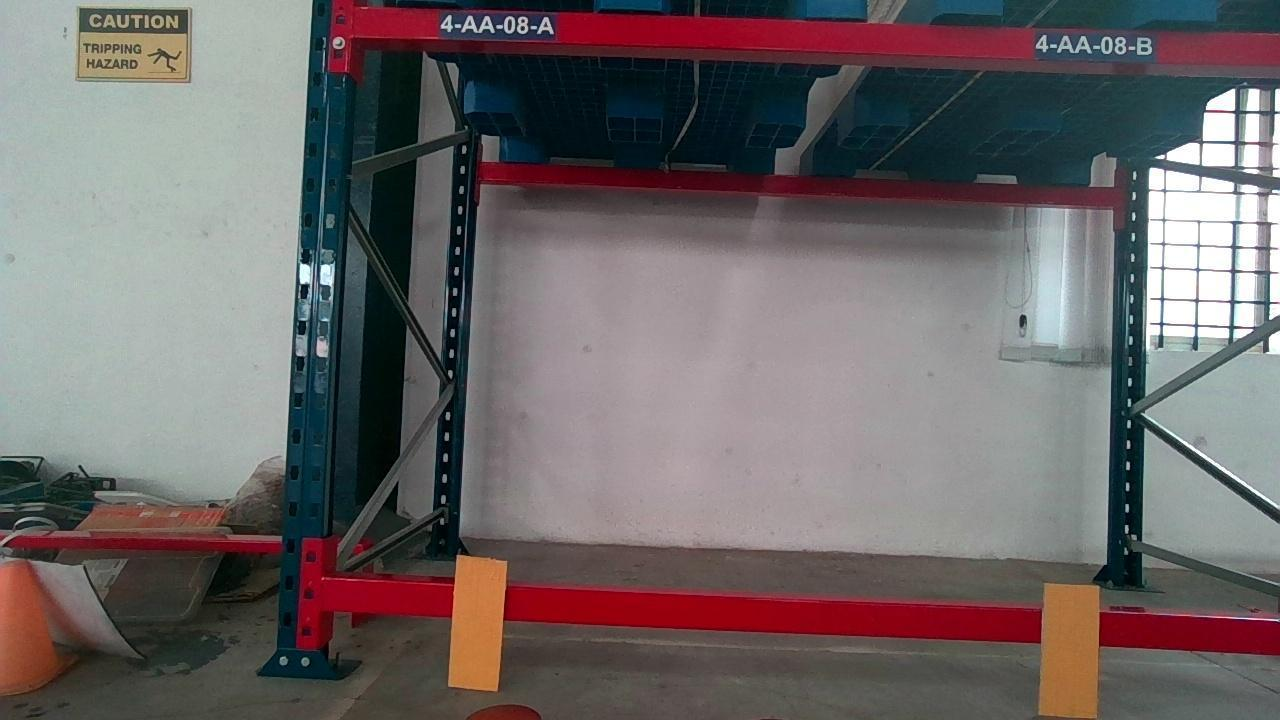h_rack: (322, 579, 1280, 652), (355, 8, 1280, 78)
orange_strip: (1039, 583, 1100, 716), (448, 555, 506, 688)
small_pallet: (927, 0, 1276, 22)
